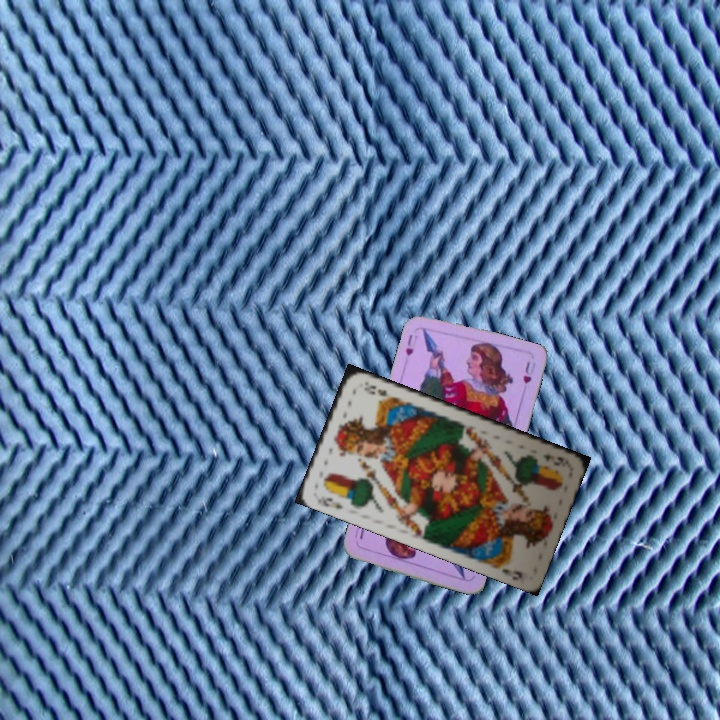EK: (312, 492, 346, 512), (539, 450, 566, 468)
HU: (401, 330, 416, 359)
